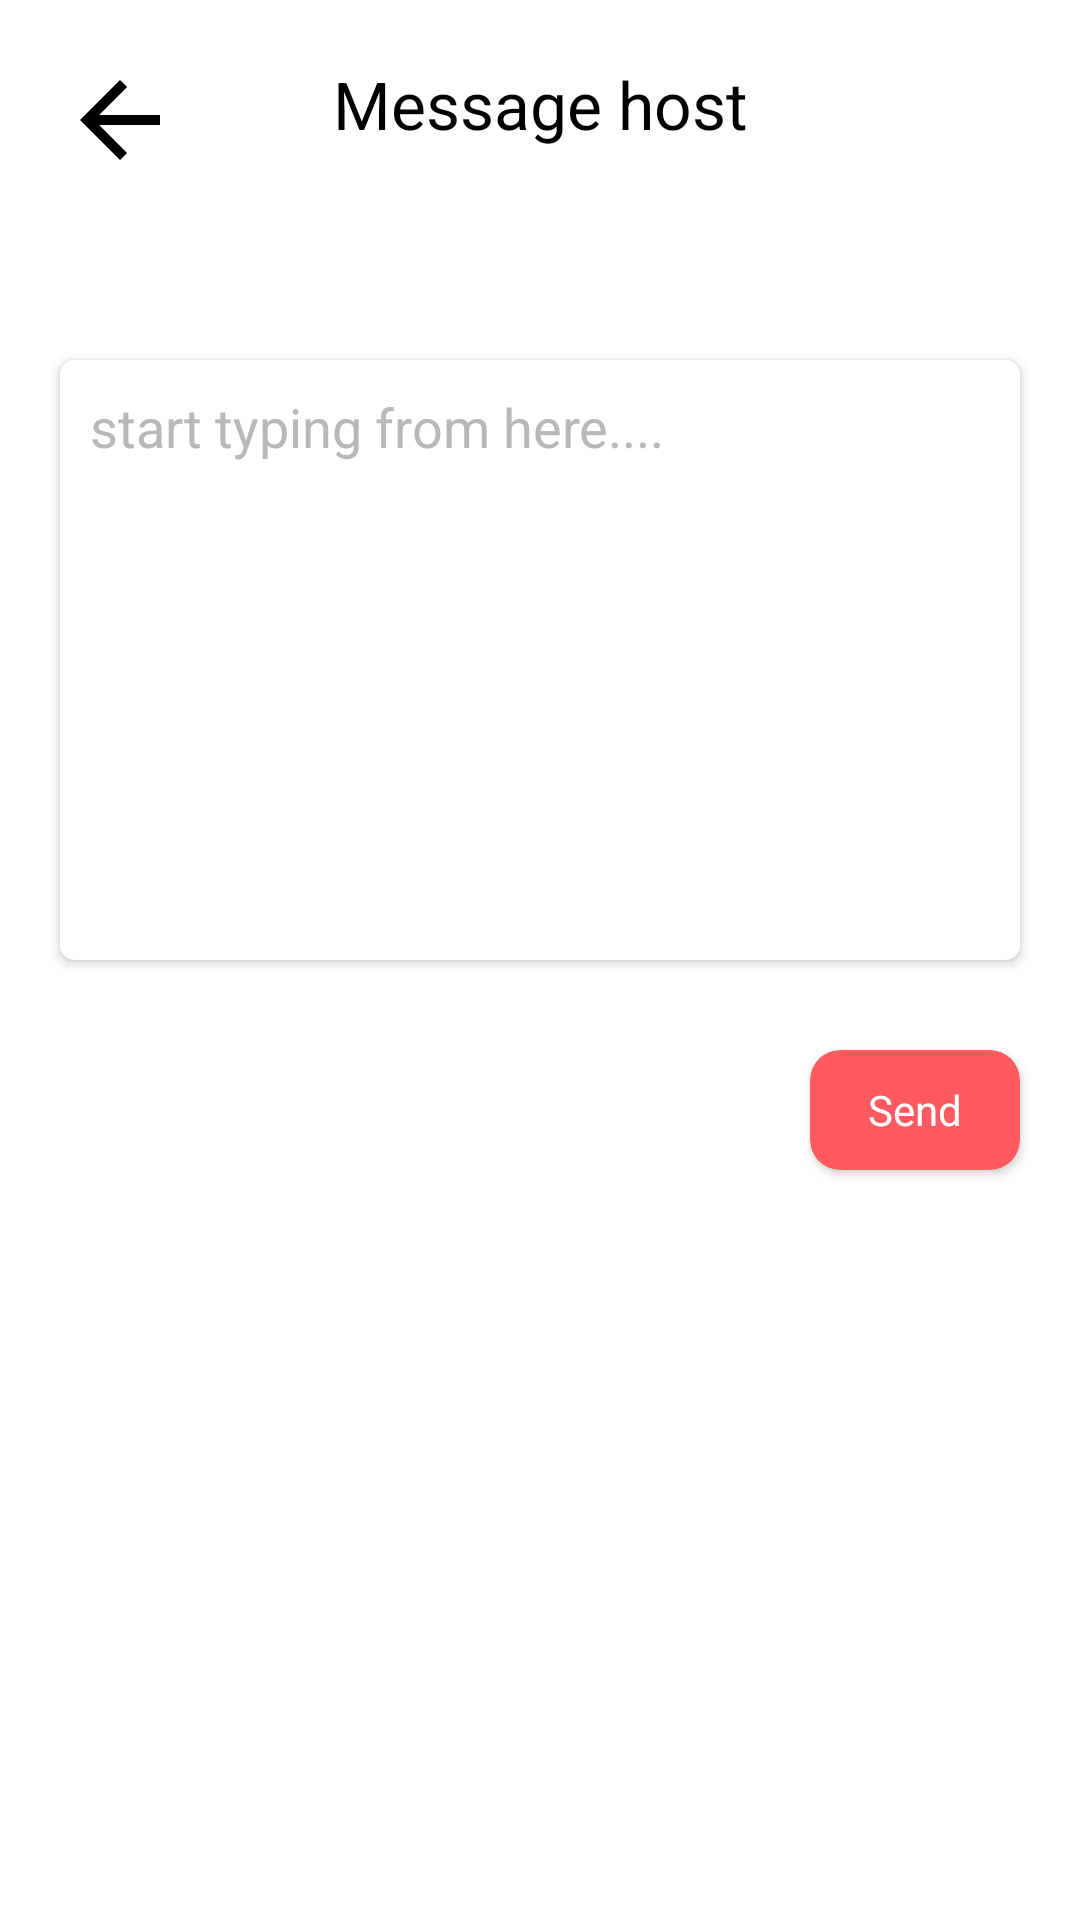

Locate icon controls on the screen. Image size 1080px x 1920px, boxes as (x1, y1, x2, y2).
back: (80, 80, 160, 160)
